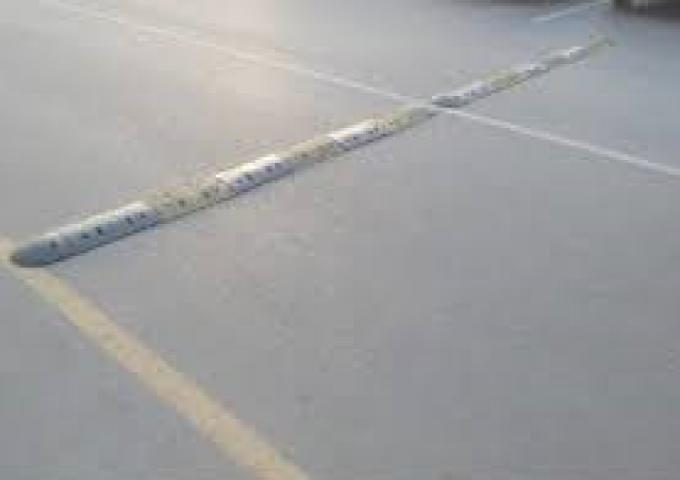speedbreaker: (0, 30, 635, 270)
